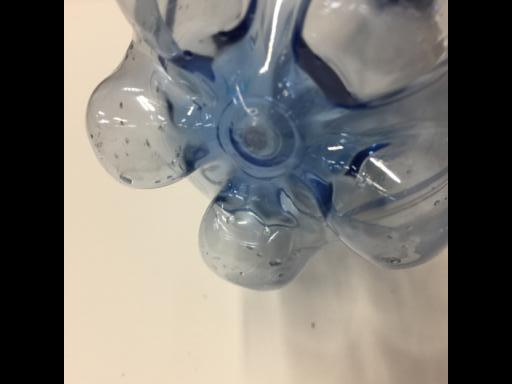plastic: (86, 3, 446, 292)
